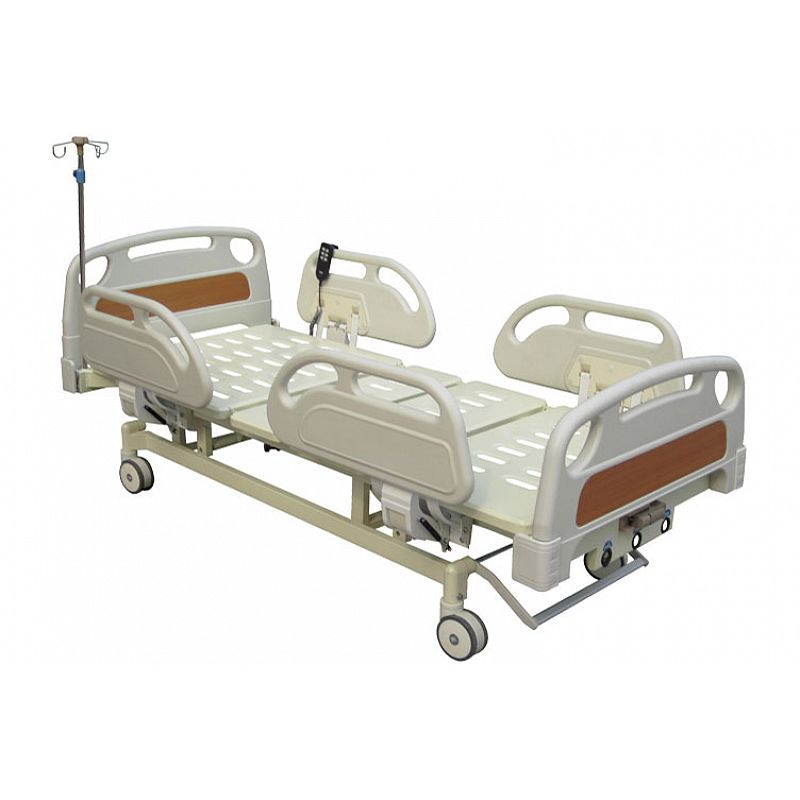trolley_bed: (49, 133, 749, 664)
